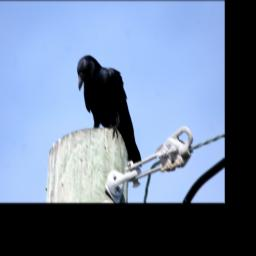Crow: (76, 55, 142, 169)
